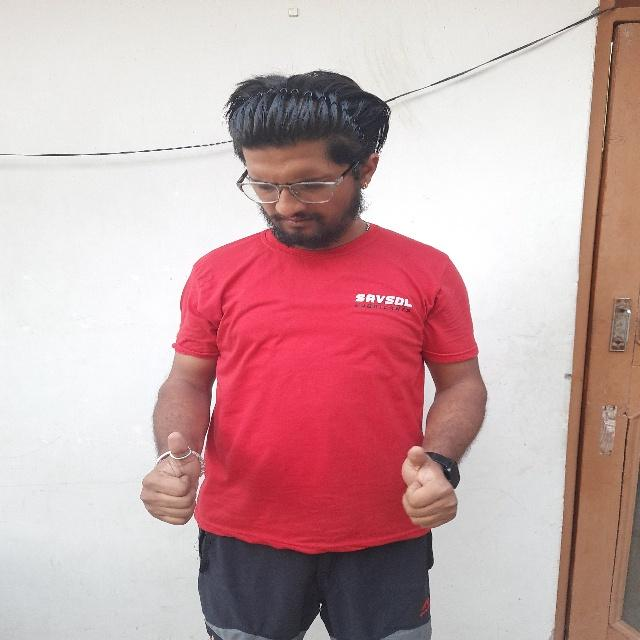Thumbs Up: (129, 427, 211, 535), (392, 442, 460, 535)
